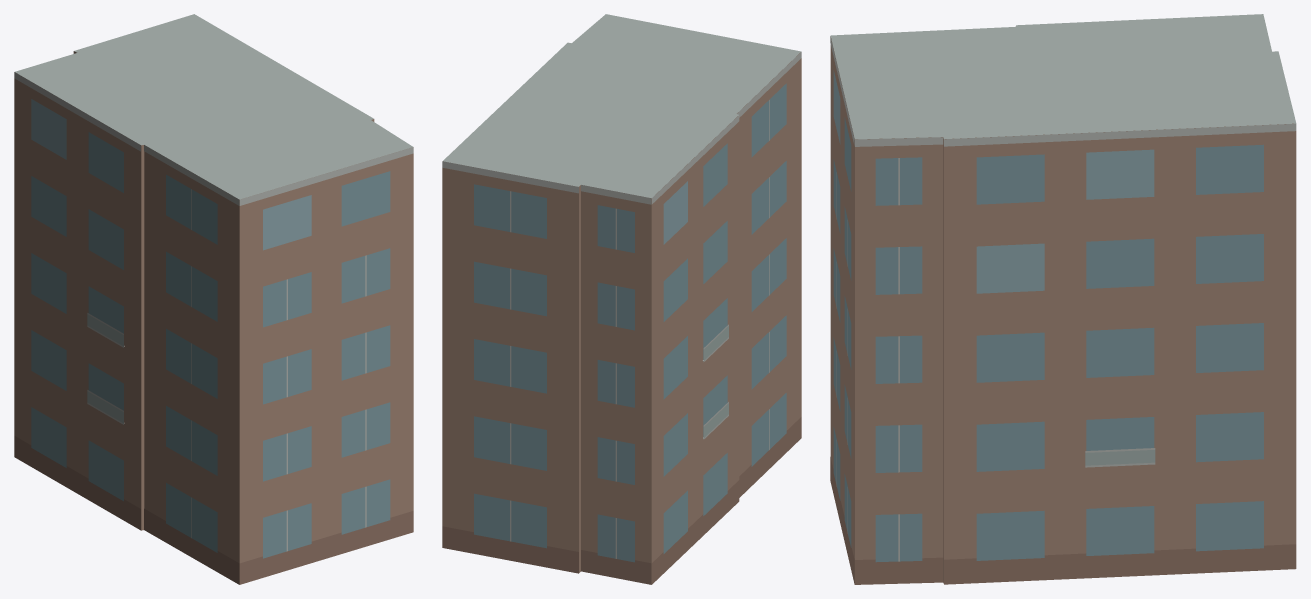
Rendered from survey-upis-32572055.glb.
The picture shows the model from 3 angles, left to right: view 1: azimuth 30°, elevation 25°; view 2: azimuth 150°, elevation 25°; view 3: azimuth 270°, elevation 25°; orthographic projection. The views are drawn at different scales.
Parts seen in each view (by area): view 1: survey-upis-32572055.tmp; view 2: survey-upis-32572055.tmp; view 3: survey-upis-32572055.tmp.
Part boxes in pixels (<box>): survey-upis-32572055.tmp: <box>14,14,413,584</box>; survey-upis-32572055.tmp: <box>442,14,801,584</box>; survey-upis-32572055.tmp: <box>830,14,1296,584</box>.
Size of the model in its own units: 8.77 by 14.5 by 13.76.
